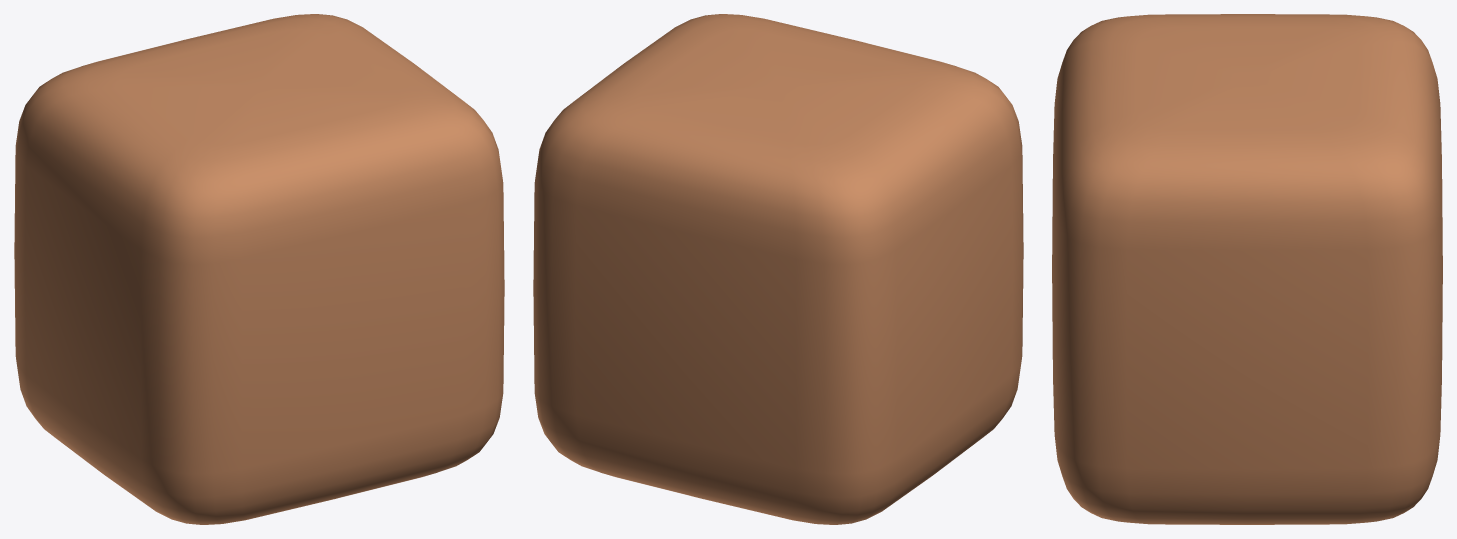
The model's file is Cuerpo_Head.fbx.
The picture shows the model from 3 angles, left to right: view 1: azimuth 30°, elevation 25°; view 2: azimuth 150°, elevation 25°; view 3: azimuth 270°, elevation 25°; orthographic projection. The views are drawn at different scales.
Parts seen in each view (by area): view 1: Cuerpo_Head; view 2: Cuerpo_Head; view 3: Cuerpo_Head.
Part boxes in pixels (x1=…): Cuerpo_Head: x1=14, y1=14, x2=504, y2=524; Cuerpo_Head: x1=533, y1=14, x2=1023, y2=524; Cuerpo_Head: x1=1052, y1=14, x2=1442, y2=524.
Bounding box in the file's own units: 1.18 × 1.16 × 1.07.
